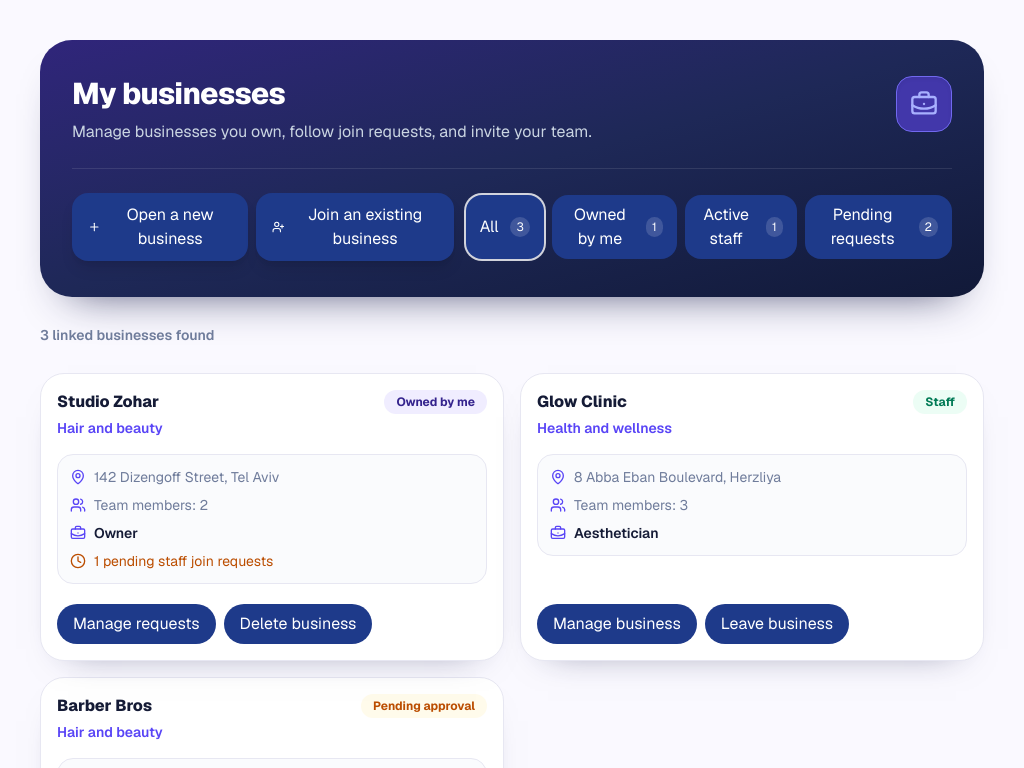
Test: my businesses page › shows a blocking dialog instead of deleting when the business still has upcoming appointments
Click the button with aria-label "Delete business — Studio Zohar". click: (298, 624)
box: [224,604,372,644]
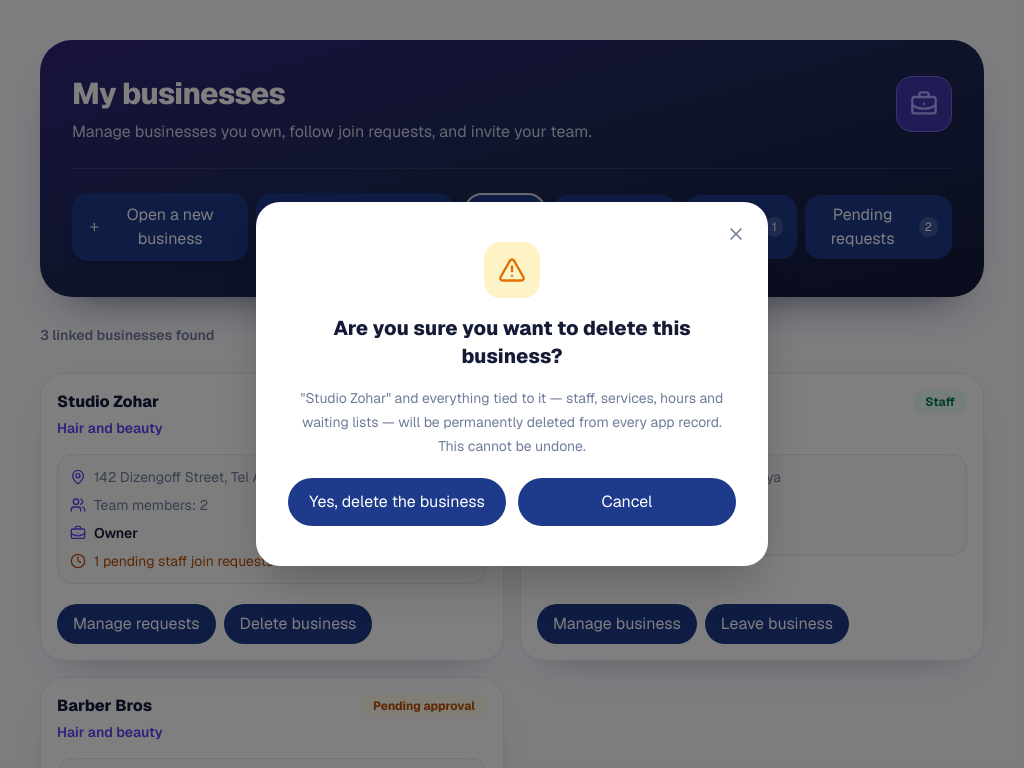
Click the button "Yes, delete the business". click: (397, 502)
box: [288,478,506,526]
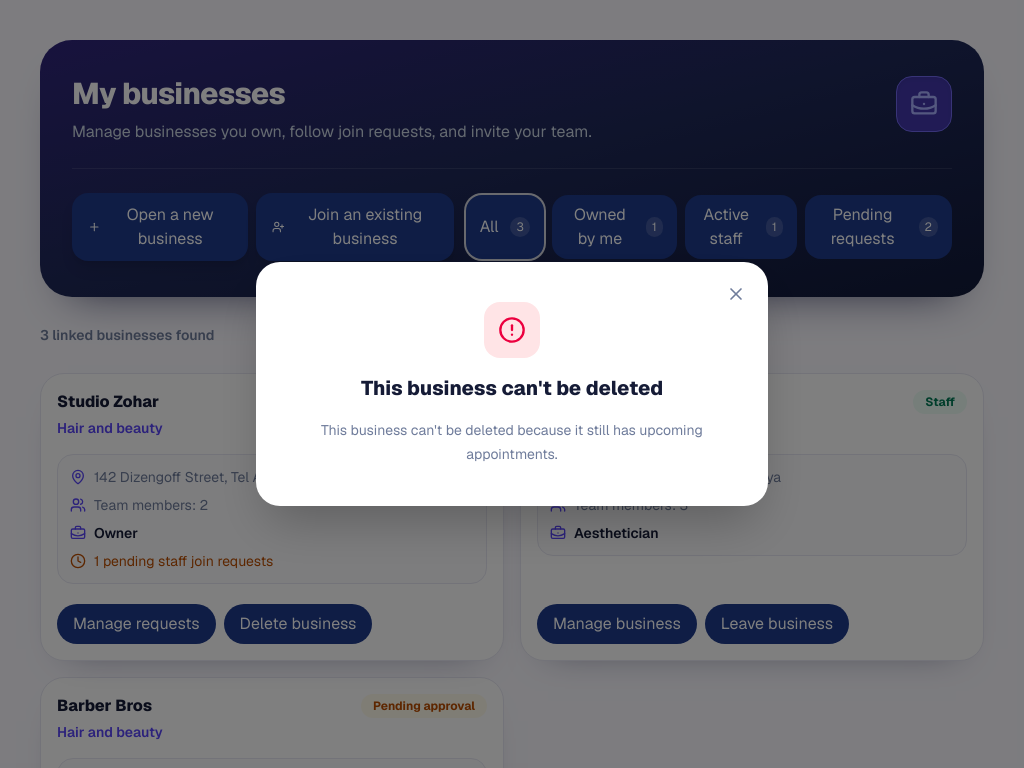
Expected: the text "This business can't be deleted" is shown, [361,374,663,402]
Expected: the text "This business can't be deleted because it still has upcoming appointments." is shown, [288,418,736,466]
